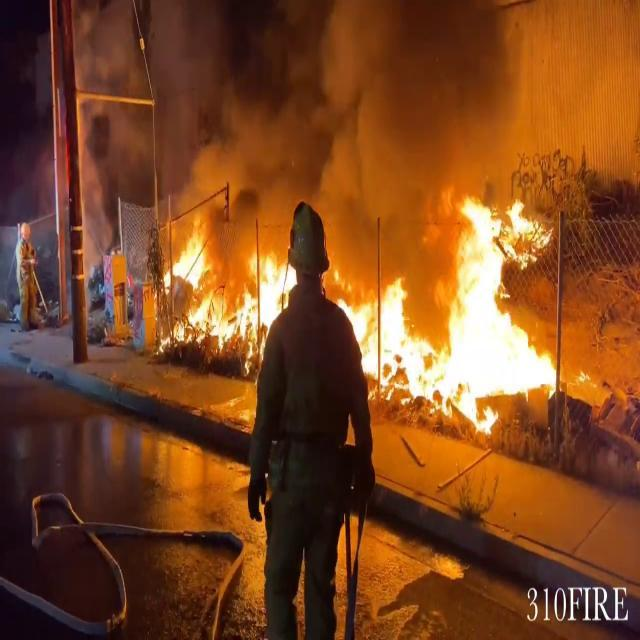Fire: (349, 180, 566, 428), (160, 222, 290, 366)
Smoke: (74, 0, 531, 229)
